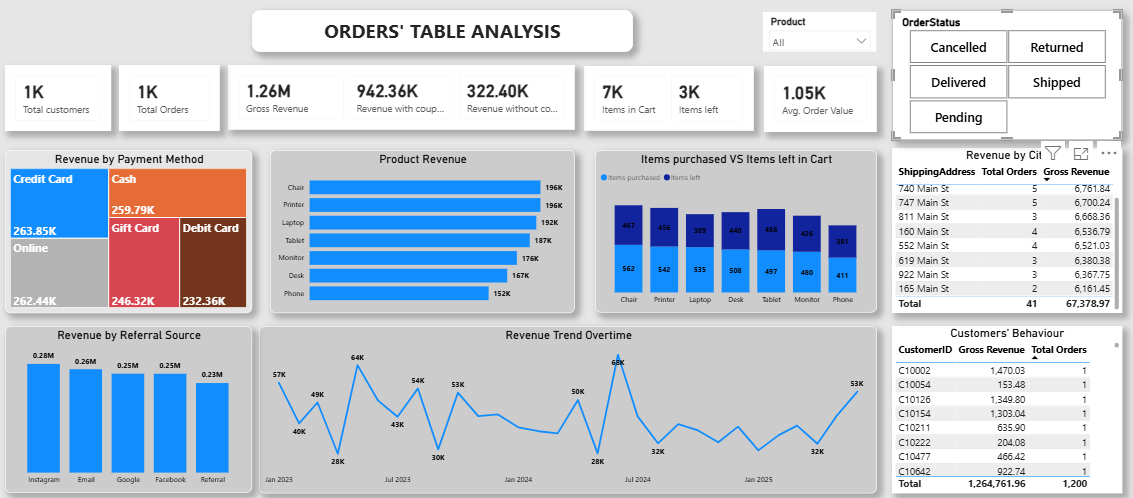

The page's visual inventory and layout, read from the dashboard file:
{"tool":"powerbi","page":{"name":"Page 1","canvas":[1900,850],"ordinal":0},"visuals":[{"type":"cardVisual","title":"Total Products","fields":{"Data":["Date Table.Items left","Sum(decodelab_project1.ItemsInCart)"]},"box":[981.7,120,285,108.3],"z":0},{"type":"clusteredBarChart","title":"Product Revenue","fields":{"Category":["decodelab_project1.Product"],"Y":["Date Table.Gross Revenue"]},"box":[458.3,260,508.3,271.7],"z":1000},{"type":"tableEx","title":"Customers'' Behaviour","fields":{"Values":["decodelab_project1.CustomerID","Date Table.Gross Revenue","decodelab_project1.Total Orders"]},"box":[1494.6,553.6,383.9,278.6],"z":2000},{"type":"cardVisual","title":"Gross revenue, Revenue with coupon code, Re","fields":{"Data":["Date Table.Gross Revenue","decodelab_project1.Revenue with coupon code","decodelab_project1.Revenue without coupon code"]},"box":[388.3,118.3,578.3,108.3],"z":3000},{"type":"cardVisual","title":"Avg Order Value","fields":{"Data":["decodelab_project1.AOV"]},"box":[1281.7,120,188.3,110],"z":4000},{"type":"lineChart","title":"Revenue Trend Overtime","fields":{"Y":["Date Table.Gross Revenue"],"Category":["Date Table.Date.Variation.Date Hierarchy.Year","Date Table.Date.Variation.Date Hierarchy.Month"]},"box":[439.3,553.6,1030.4,278.6],"z":5000},{"type":"treemap","title":"Revenue by Payment Method","fields":{"Group":["decodelab_project1.PaymentMethod"],"Values":["Date Table.Gross Revenue"]},"box":[16.7,260,411.7,271.7],"z":6000},{"type":"clusteredColumnChart","title":" Revenue by Referral Source","fields":{"Category":["decodelab_project1.ReferralSource"],"Y":["Date Table.Gross Revenue"]},"box":[16.7,553.3,411.7,278.3],"z":7000},{"type":"tableEx","title":"Revenue by City","fields":{"Values":["decodelab_project1.ShippingAddress","decodelab_project1.Total Orders","Date Table.Gross Revenue"]},"box":[1494.6,257.1,383.9,275],"z":8000},{"type":"slicer","fields":{"Values":["decodelab_project1.OrderStatus"]},"box":[1494.6,26.8,383.9,216.1],"z":9000},{"type":"cardVisual","fields":{"Data":["decodelab_project1.Total customers"]},"box":[16.7,118.3,176.7,110],"z":10000},{"type":"cardVisual","fields":{"Data":["decodelab_project1.Total Orders"]},"box":[206.7,118.3,168.3,110],"z":11000},{"type":"columnChart","title":"Items purchased VS Items left in Cart","fields":{"Category":["decodelab_project1.Product"],"Y":["Date Table.Total quantity of products","Date Table.Items left"]},"box":[1000,260.7,469.6,271.4],"z":12000},{"type":"textbox","box":[428.3,26.7,635,70],"z":13000},{"type":"slicer","fields":{"Values":["decodelab_project1.Product"]},"box":[1280.4,30.4,189.3,66.1],"z":14000}]}

Visuals, with their boxes in screenshot pixels (x1, y1, x2, y2), scaled from the page's 1900x850 canvas onto the 1133x498 screenshot:
"Total Products" cardVisual: left=585, top=70, right=755, bottom=134
"Product Revenue" clusteredBarChart: left=273, top=152, right=576, bottom=312
"Customers'' Behaviour" tableEx: left=891, top=324, right=1120, bottom=488
"Gross revenue, Revenue with coupon code, Re" cardVisual: left=232, top=69, right=576, bottom=133
"Avg Order Value" cardVisual: left=764, top=70, right=877, bottom=135
"Revenue Trend Overtime" lineChart: left=262, top=324, right=876, bottom=488
"Revenue by Payment Method" treemap: left=10, top=152, right=255, bottom=312
" Revenue by Referral Source" clusteredColumnChart: left=10, top=324, right=255, bottom=487
"Revenue by City" tableEx: left=891, top=151, right=1120, bottom=312
slicer - decodelab_project1.OrderStatus: left=891, top=16, right=1120, bottom=142
cardVisual - decodelab_project1.Total customers: left=10, top=69, right=115, bottom=134
cardVisual - decodelab_project1.Total Orders: left=123, top=69, right=224, bottom=134
"Items purchased VS Items left in Cart" columnChart: left=596, top=153, right=876, bottom=312
textbox: left=255, top=16, right=634, bottom=57
slicer - decodelab_project1.Product: left=764, top=18, right=876, bottom=57
